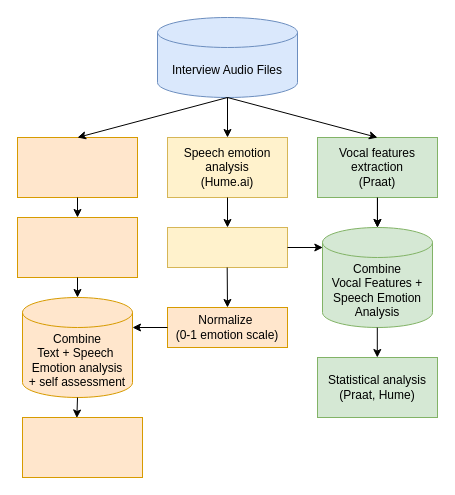
The diagram is 455 pixels wide and 495 high, and some of its shapes have lost their labels. Each missing label, with the centre of its shape:
"Filter (Big 6 emotions)" belongs at pixel 227 247.
"NLPCloud Text Emotion Analysis" belongs at pixel 77 247.
"Statistical analysis (NLP, Hume, self)" belongs at pixel 82 447.
"Transcription (NLPCloud)" belongs at pixel 77 167.
